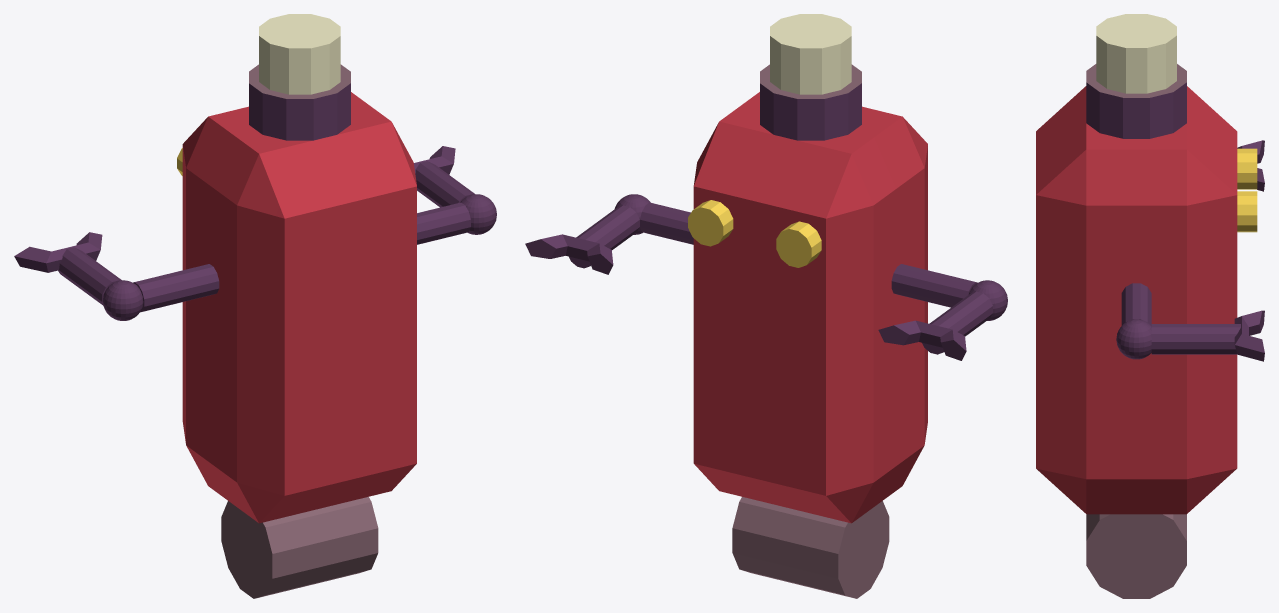
The model's file is roboter.fbx.
3 views of the same model, side by side, from view 1: azimuth 30°, elevation 25°; view 2: azimuth 150°, elevation 25°; view 3: azimuth 270°, elevation 25° (orthographic).
Visible parts, largest first — view 1: body, circle_4, circle_1, circle, cylinder, cylinder_1, cylinder_2, cylinder_3, hand_1, sphere, sphere_1; view 2: body, circle_4, circle_1, circle, cylinder, hand, hand_1, cylinder_3, cylinder_1, circle_2, circle_3, cylinder_2 (+1 smaller); view 3: body, circle_4, circle_1, circle, cylinder_3, sphere_1, hand, cylinder_2, circle_2, circle_3, hand_1.
Part boxes in pixels (bbox=[...]): body: bbox=[182, 92, 416, 523]; circle_4: bbox=[221, 497, 378, 598]; circle_1: bbox=[259, 14, 340, 94]; circle: bbox=[249, 64, 350, 140]; cylinder: bbox=[133, 264, 219, 312]; cylinder_1: bbox=[58, 247, 121, 305]; cylinder_2: bbox=[417, 202, 470, 244]; cylinder_3: bbox=[415, 161, 474, 207]; hand_1: bbox=[14, 232, 102, 272]; sphere: bbox=[103, 280, 143, 320]; sphere_1: bbox=[460, 194, 496, 234]; body: bbox=[693, 92, 927, 523]; circle_4: bbox=[732, 497, 889, 598]; circle_1: bbox=[770, 14, 851, 94]; circle: bbox=[760, 64, 861, 140]; cylinder: bbox=[891, 264, 977, 307]; hand: bbox=[525, 234, 613, 274]; hand_1: bbox=[878, 320, 966, 360]; cylinder_3: bbox=[569, 205, 639, 268]; cylinder_1: bbox=[922, 291, 992, 354]; circle_2: bbox=[776, 221, 821, 267]; circle_3: bbox=[688, 200, 733, 246]; cylinder_2: bbox=[640, 202, 693, 244]; body: bbox=[1036, 86, 1237, 514]; circle_4: bbox=[1086, 514, 1186, 598]; circle_1: bbox=[1096, 14, 1176, 93]; circle: bbox=[1086, 64, 1186, 138]; cylinder_3: bbox=[1151, 324, 1240, 354]; sphere_1: bbox=[1116, 319, 1151, 359]; hand: bbox=[1234, 310, 1264, 361]; cylinder_2: bbox=[1121, 283, 1151, 325]; circle_2: bbox=[1237, 148, 1257, 189]; circle_3: bbox=[1237, 191, 1257, 232]; hand_1: bbox=[1237, 140, 1264, 191].
Size of the model in its own units: 31.25 by 37.19 by 14.23.
Materials: 5 (5 with a texture image).
